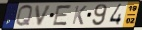4: (108, 3, 123, 27)
9: (92, 3, 108, 27)
E: (51, 4, 73, 27)
K: (71, 5, 89, 26)
Q: (15, 4, 34, 27)
V: (34, 4, 53, 27)
